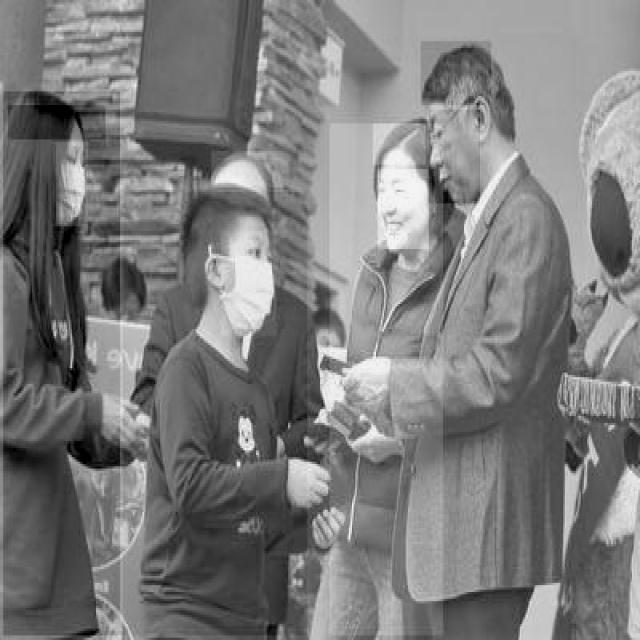face_mask: (221, 231, 277, 336), (54, 140, 88, 228)
face_nomask: (427, 110, 480, 206), (376, 169, 429, 252)
hand_noglove: (341, 343, 397, 423), (102, 385, 149, 456), (348, 422, 407, 472), (286, 456, 330, 511), (309, 505, 346, 551)
head_nohelmet: (419, 41, 491, 108), (6, 105, 106, 142), (210, 151, 290, 190), (186, 201, 275, 236), (371, 123, 426, 167)
person: (413, 34, 584, 638), (122, 192, 307, 638), (2, 91, 120, 638), (328, 123, 443, 638)
